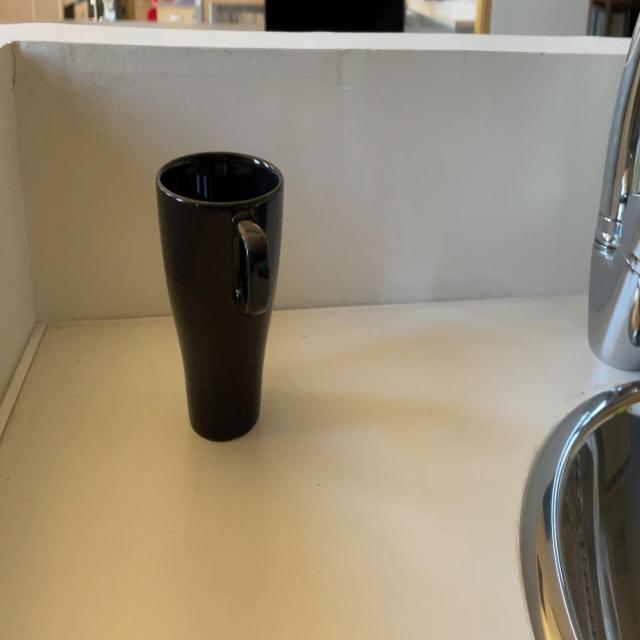cup: (151, 145, 291, 440)
